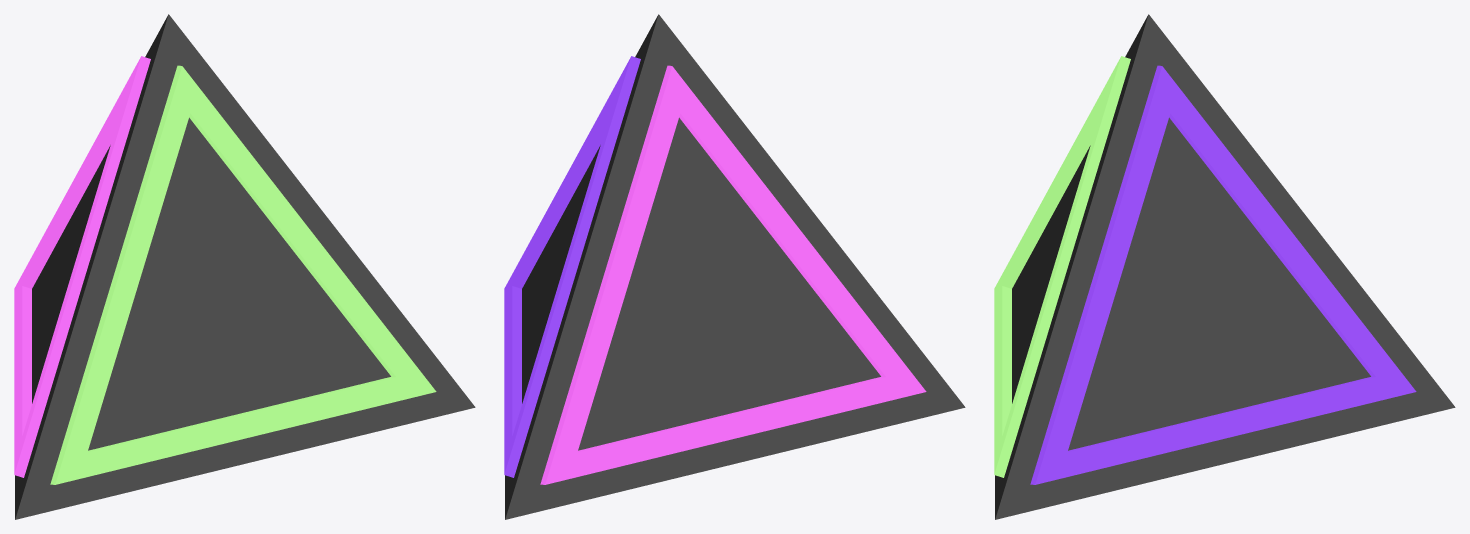
File: tetrahedron.glb
The picture shows the model from 3 angles, left to right: view 1: azimuth 30°, elevation 25°; view 2: azimuth 150°, elevation 25°; view 3: azimuth 270°, elevation 25°; orthographic projection.
Parts seen in each view (by area): view 1: Tetrahedron, TetrahedronNeon; view 2: Tetrahedron, TetrahedronNeon; view 3: Tetrahedron, TetrahedronNeon.
Part boxes in pixels (bbox=[...]): Tetrahedron: bbox=[15, 14, 475, 519]; TetrahedronNeon: bbox=[14, 56, 436, 484]; Tetrahedron: bbox=[505, 14, 965, 519]; TetrahedronNeon: bbox=[504, 56, 926, 484]; Tetrahedron: bbox=[995, 14, 1455, 519]; TetrahedronNeon: bbox=[994, 56, 1416, 484].
Size of the model in its own units: 1 by 0.8359 by 0.8677.
